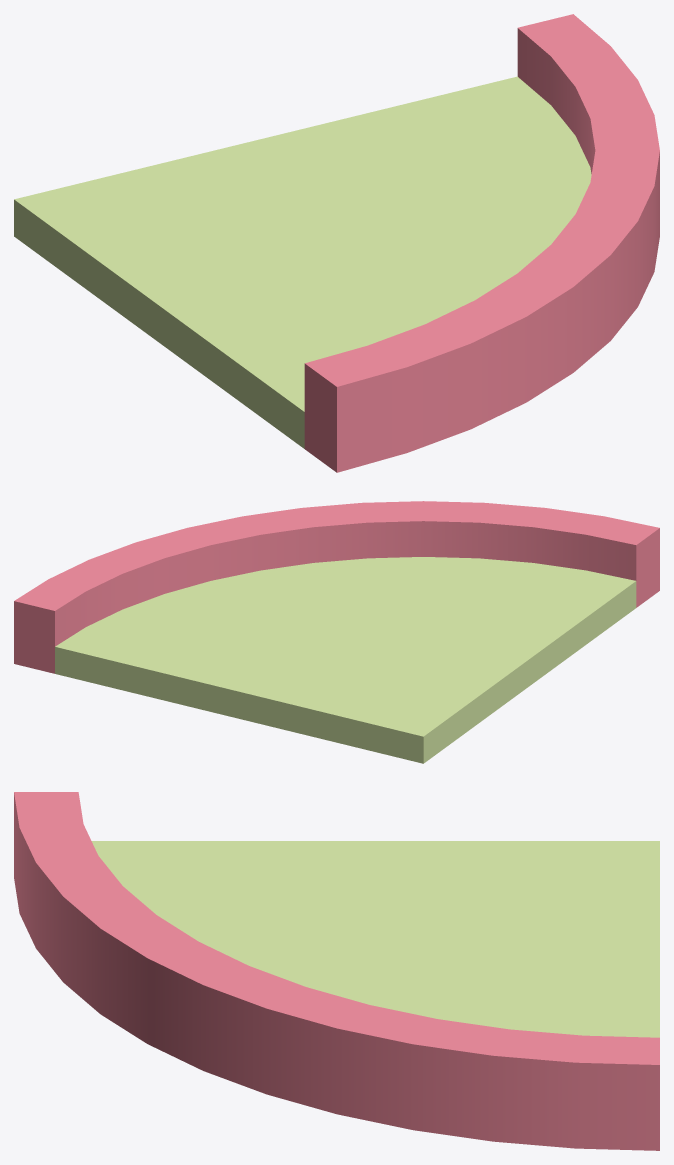
File: roundCornerC.fbx
3 views of the same model, one above another, from view 1: azimuth 30°, elevation 25°; view 2: azimuth 150°, elevation 25°; view 3: azimuth 270°, elevation 25° (orthographic). The views are drawn at different scales.
Visible parts, largest first — view 1: roundCornerC; view 2: roundCornerC; view 3: roundCornerC.
Part boxes in pixels (x1,y1,x2,y2): roundCornerC: (14,14,659,472); roundCornerC: (14,501,659,763); roundCornerC: (14,792,659,1150).
Bounding box in the file's own units: 99.99 × 14.67 × 99.99.
